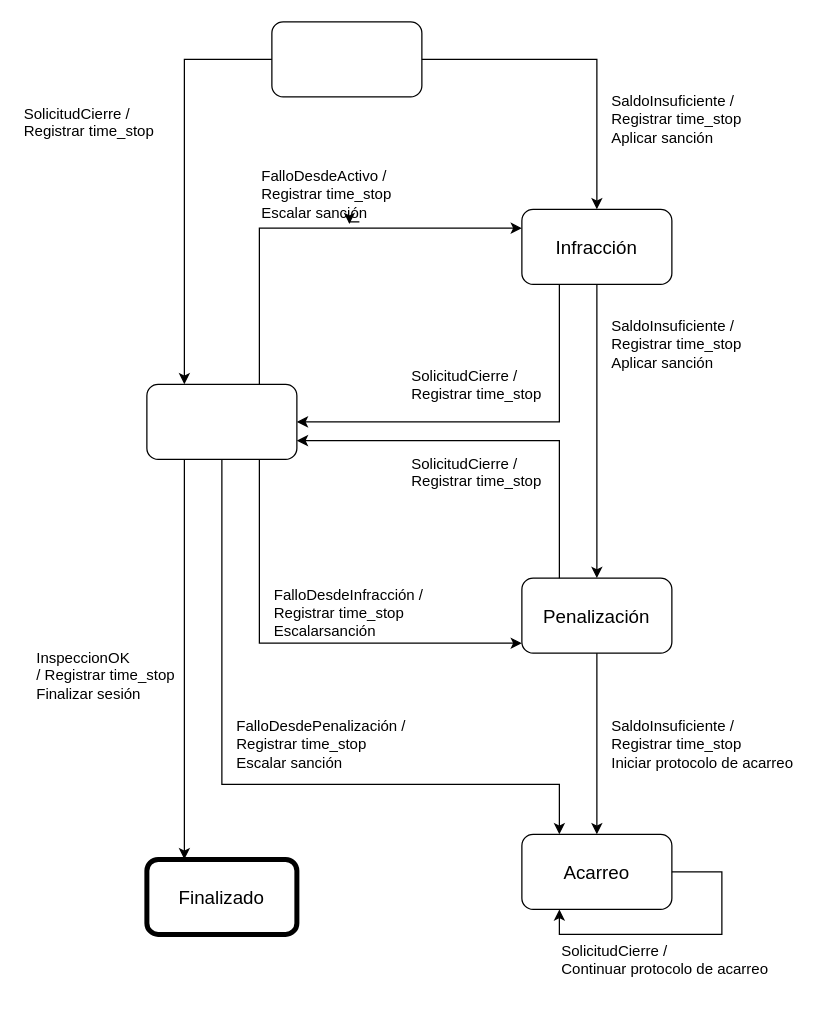
Image size: 830x1019. Some labels were removed from this diagram. The shapes that lost their labels are listed below. From the top down, each one's centre as x and y in pixels, then its label:
At [346,59]: "Activo".
At [221,421]: "En Inspección".
